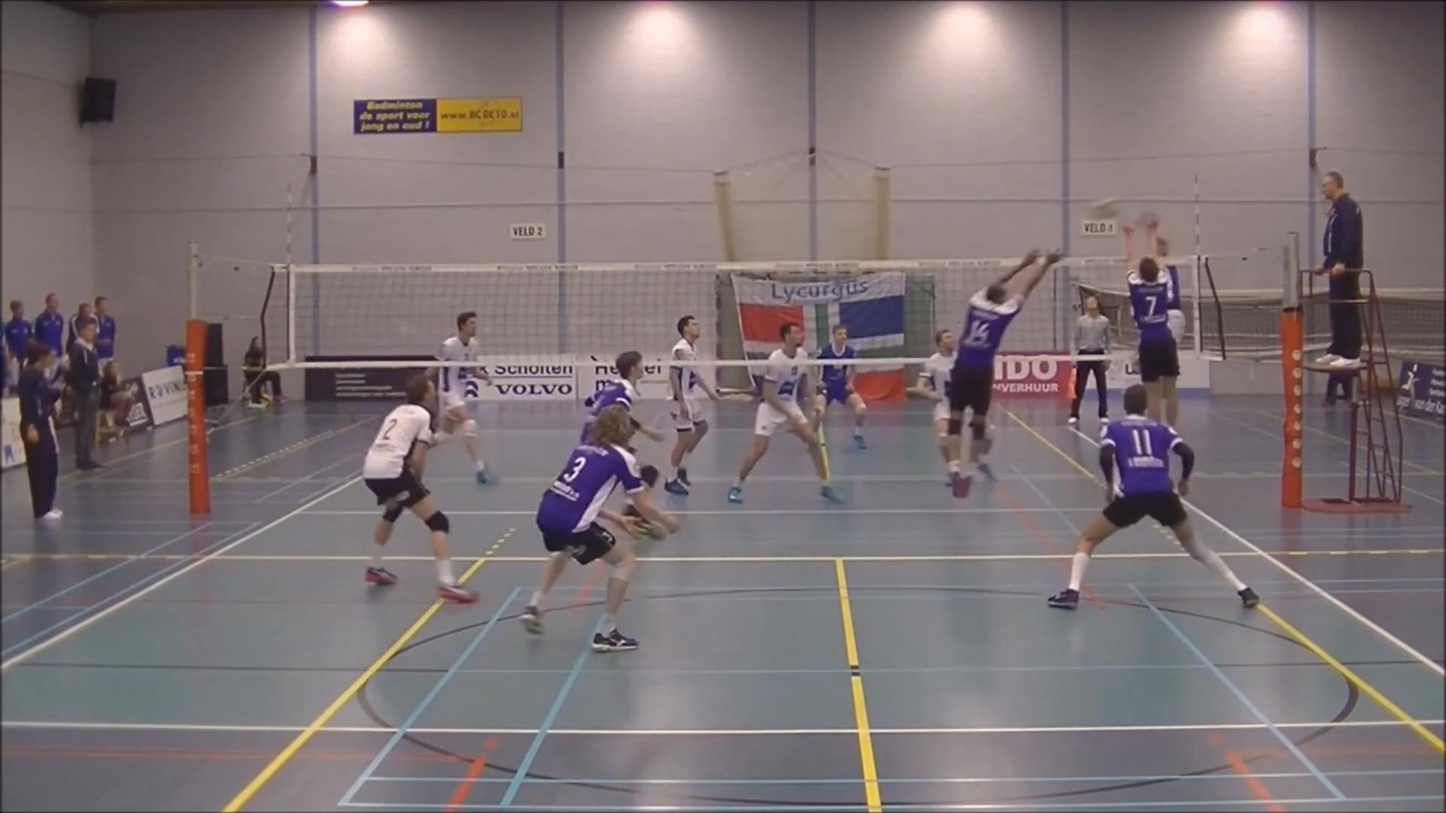attacco: (1144, 222, 1195, 352)
muro: (932, 238, 1071, 500), (1106, 210, 1187, 450)
